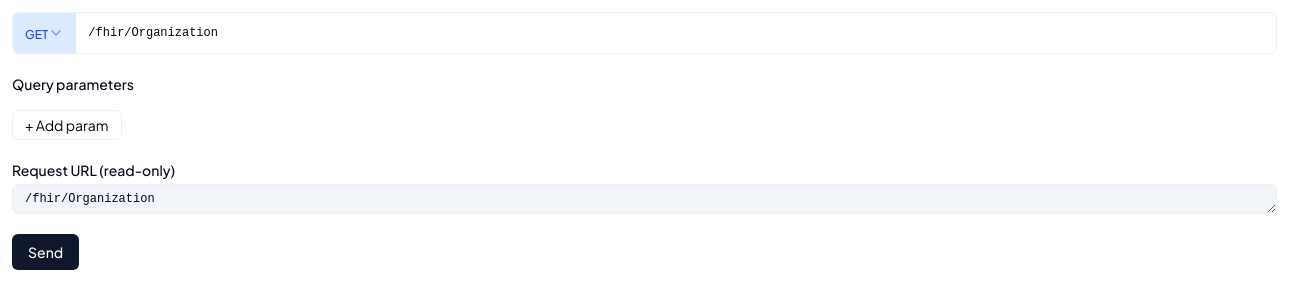
Test: AdminRequestBuilder › Endpoint input › filters suggestions when typing
Replace the text in the field named "endpoint" with "Patient" at (676, 33), box [76, 13, 1276, 53]
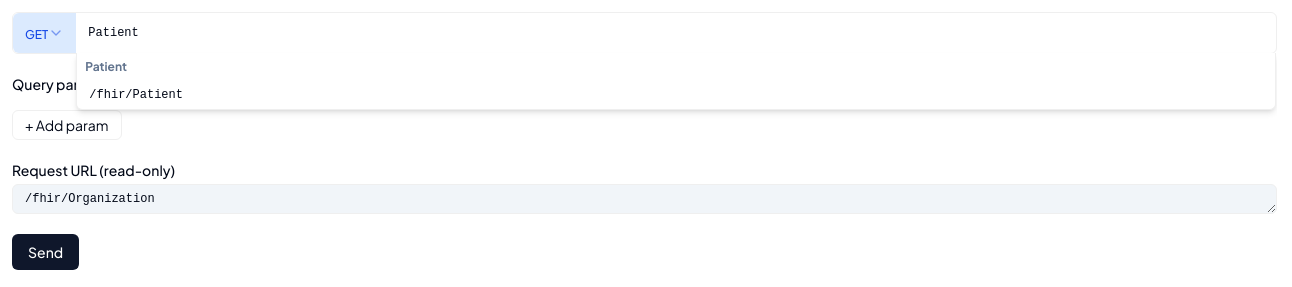
Now the button "/fhir/Patient" is shown, box [77, 81, 1275, 109]
